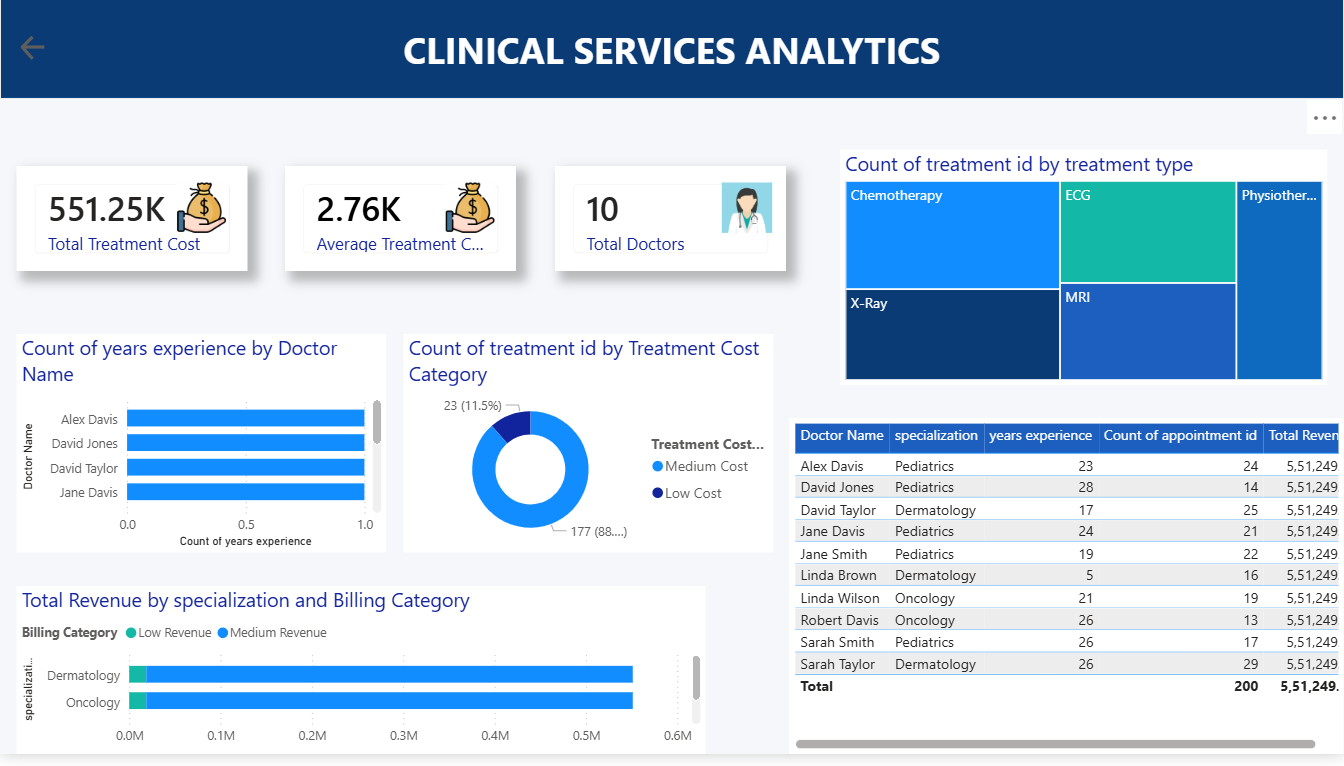

What the dashboard file says about the page in this screenshot:
{"tool":"powerbi","page":{"name":"CLINICAL SERVICES ANALYTICS","canvas":[1280,720],"ordinal":1},"visuals":[{"type":"cardVisual","fields":{"Data":["cleaned_treatments.Total Treatment Cost"]},"box":[16,160,220,100],"z":0},{"type":"cardVisual","fields":{"Data":["cleaned_treatments.Average Treatment Cost"]},"box":[272,160,220,100],"z":1000},{"type":"cardVisual","fields":{"Data":["cleaned_doctors.Total Doctors"]},"box":[528,160,220,100],"z":2000},{"type":"treemap","fields":{"Values":["CountNonNull(cleaned_treatments.treatment id)"],"Group":["cleaned_treatments.treatment type"]},"box":[800,144,464,224],"z":3000},{"type":"barChart","fields":{"Category":["cleaned_doctors.Doctor Name"],"Y":["CountNonNull(cleaned_doctors.years experience)"]},"box":[16,320,352,208],"z":4000},{"type":"donutChart","fields":{"Y":["CountNonNull(cleaned_treatments.treatment id)"],"Category":["cleaned_treatments.Treatment Cost Category"]},"box":[384,320,352,208],"z":5000},{"type":"barChart","fields":{"Category":["cleaned_doctors.specialization"],"Y":["cleaned_billing.Total Revenue"],"Series":["cleaned_billing.Billing Category"]},"box":[16,560,656,160],"z":6000},{"type":"tableEx","fields":{"Values":["cleaned_doctors.Doctor Name","cleaned_doctors.specialization","cleaned_doctors.years experience","cleaned_appointments.appointment id","cleaned_billing.Total Revenue"]},"box":[752,400,528,320],"z":7000},{"type":"actionButton","box":[64,16,112,32],"z":8000},{"type":"shape","box":[0,0,1280,96],"z":9000},{"type":"image","box":[160,176,64,48],"z":9001},{"type":"image","box":[416,176,64,48],"z":9002},{"type":"image","box":[672,176,80,48],"z":9003},{"type":"actionButton","box":[16,32,48,32],"z":9004}]}

Visuals, with their boxes in screenshot pixels (x1, y1, x2, y2), scaled from the page's 1280x720 canvas onto the 1344x766 screenshot:
cardVisual - cleaned_treatments.Total Treatment Cost: box(17, 170, 248, 277)
cardVisual - cleaned_treatments.Average Treatment Cost: box(286, 170, 517, 277)
cardVisual - cleaned_doctors.Total Doctors: box(554, 170, 785, 277)
treemap - CountNonNull(cleaned_treatments.treatment id) x cleaned_treatments.treatment type: box(840, 153, 1327, 392)
barChart - cleaned_doctors.Doctor Name x CountNonNull(cleaned_doctors.years experience): box(17, 340, 386, 562)
donutChart - CountNonNull(cleaned_treatments.treatment id) x cleaned_treatments.Treatment Cost Category: box(403, 340, 773, 562)
barChart - cleaned_doctors.specialization x cleaned_billing.Total Revenue: box(17, 596, 706, 765)
tableEx - cleaned_doctors.Doctor Name x cleaned_doctors.specialization: box(790, 426, 1343, 765)
actionButton: box(67, 17, 185, 51)
shape: box(0, 0, 1343, 102)
image: box(168, 187, 235, 238)
image: box(437, 187, 504, 238)
image: box(706, 187, 790, 238)
actionButton: box(17, 34, 67, 68)
